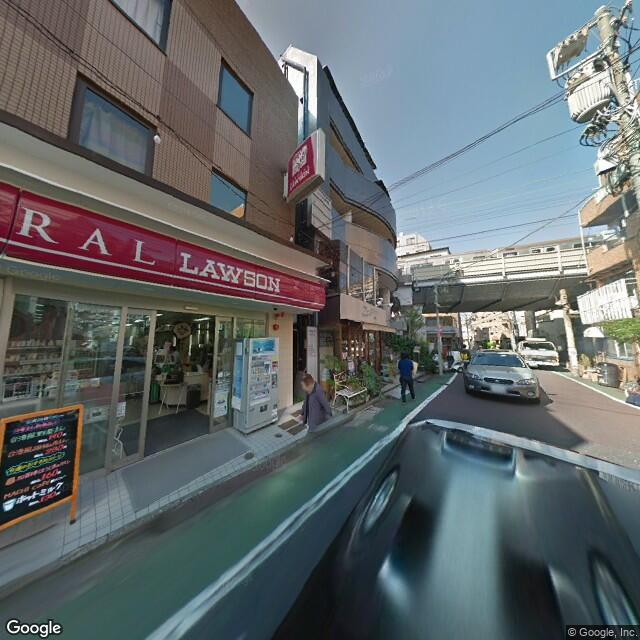lawson: (1, 179, 328, 309), (287, 126, 324, 195)
